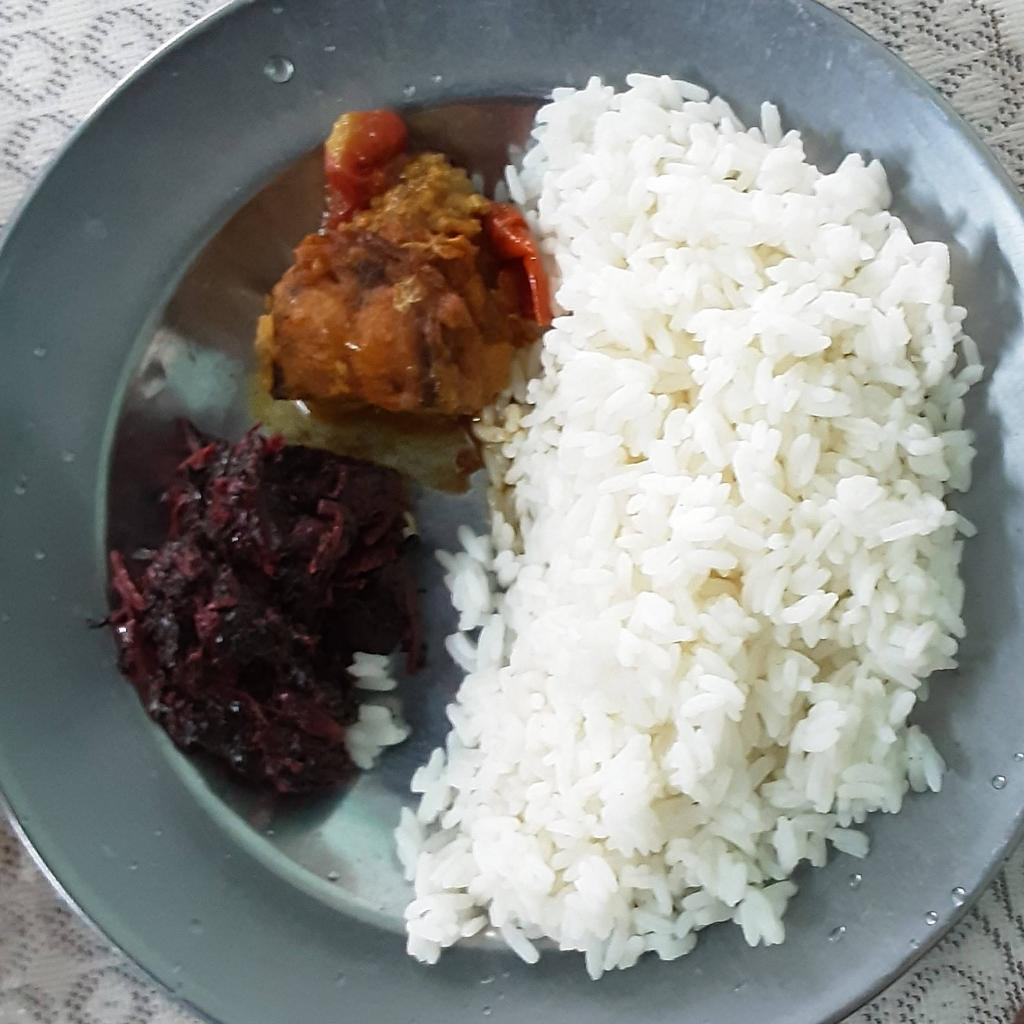chicken: (273, 108, 520, 417)
rice: (397, 69, 977, 960)
shak: (116, 430, 424, 795)
